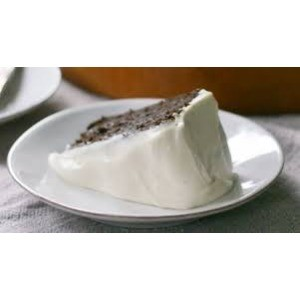cheese_brain food: (96, 114, 244, 196)
